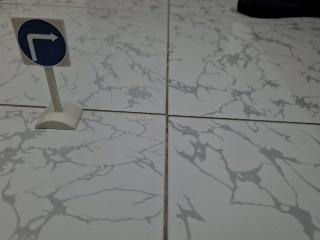right: (1, 13, 79, 76)
